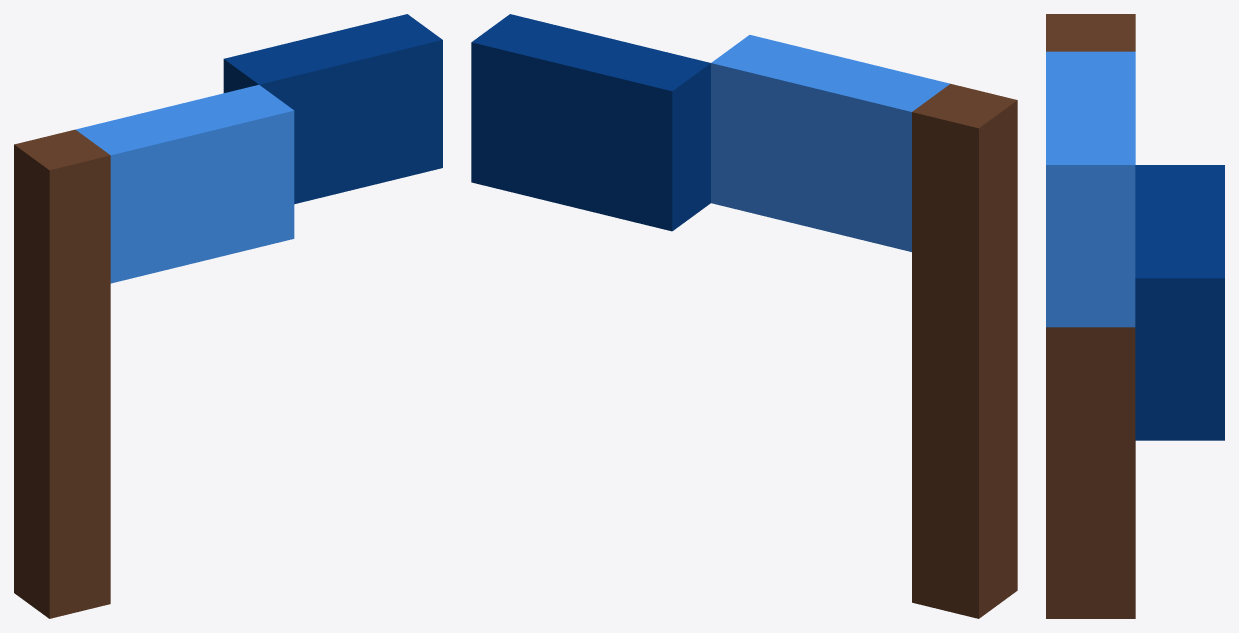
File: PlayerFlag.obj
3 views of the same model, side by side, from view 1: azimuth 30°, elevation 25°; view 2: azimuth 150°, elevation 25°; view 3: azimuth 270°, elevation 25° (orthographic). The views are drawn at different scales.
Size of the model in its own units: 0.7 by 0.7 by 0.2.
1 material, 1 textured.
